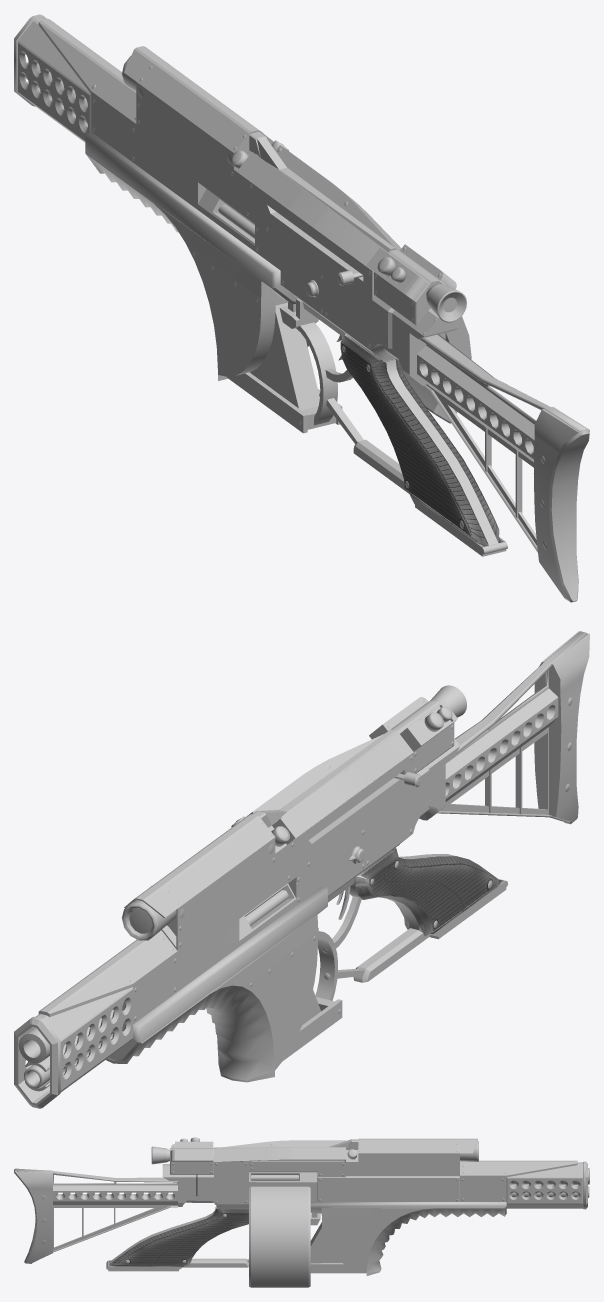
File: Стреляла.fbx
3 views of the same model, one above another, from view 1: azimuth 30°, elevation 25°; view 2: azimuth 150°, elevation 25°; view 3: azimuth 270°, elevation 25° (orthographic). The views are drawn at different scales.
Visible parts, largest first — view 1: Futuristic Weapon; view 2: Futuristic Weapon; view 3: Futuristic Weapon.
Boxes of the visible parts, x1=… form: Futuristic Weapon: x1=14, y1=14, x2=589, y2=602; Futuristic Weapon: x1=14, y1=631, x2=589, y2=1108; Futuristic Weapon: x1=14, y1=1137, x2=589, y2=1287.
Size of the model in its own units: 350 by 542 by 2170.
